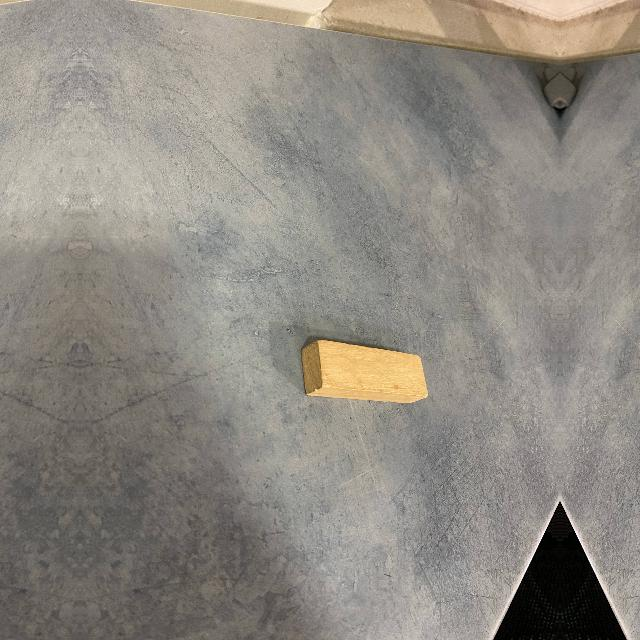jenga: (300, 340, 428, 406)
